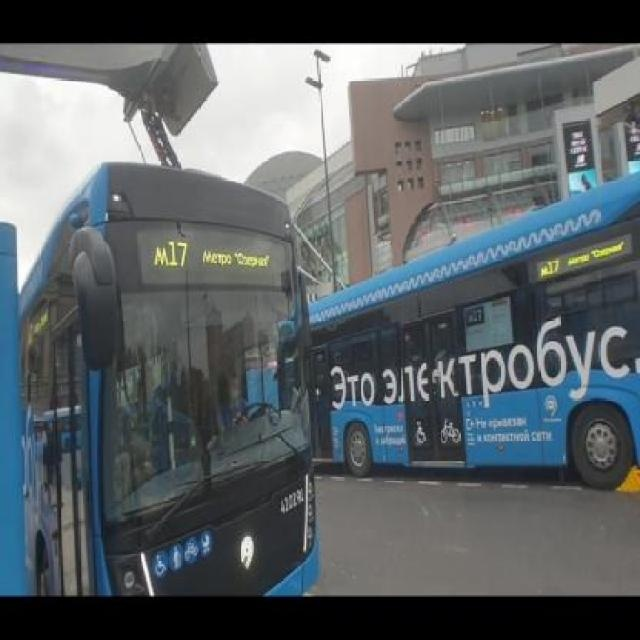Bus: (16, 158, 319, 587), (314, 169, 638, 485)
